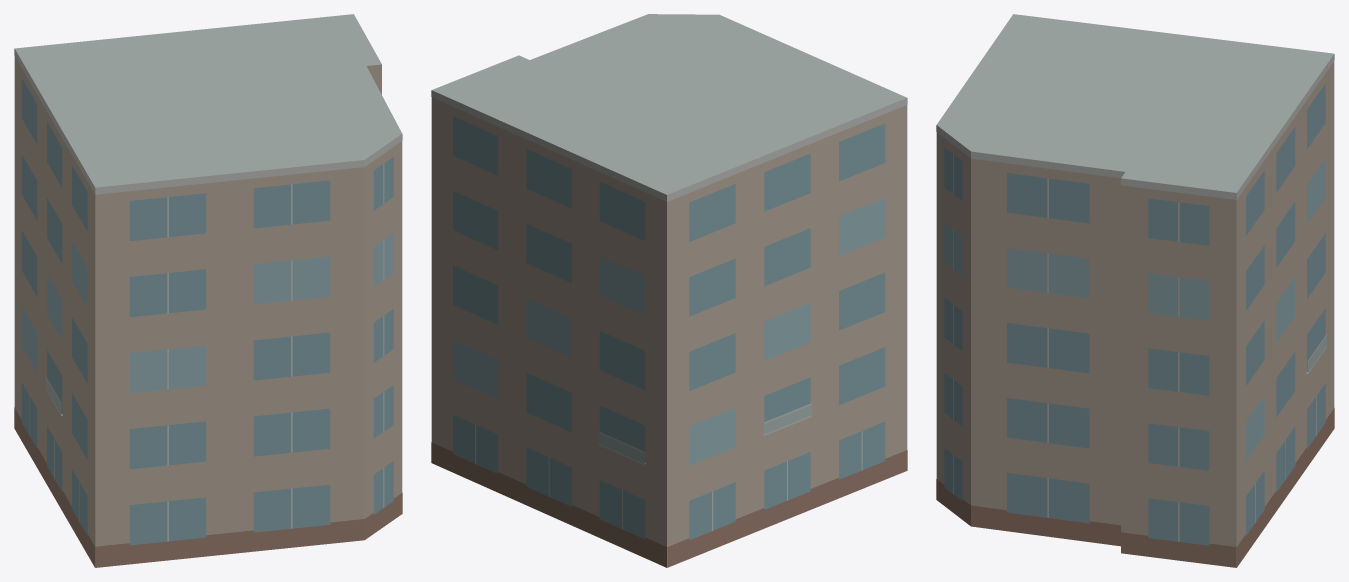
File: survey-upis-33026586.glb
3 renders of one model, left to right at view 1: azimuth 30°, elevation 25°; view 2: azimuth 150°, elevation 25°; view 3: azimuth 270°, elevation 25°, orthographic.
Parts seen in each view (by area): view 1: survey-upis-33026586.tmp; view 2: survey-upis-33026586.tmp; view 3: survey-upis-33026586.tmp.
Boxes of the visible parts, bbox=[...] form: survey-upis-33026586.tmp: bbox=[14, 14, 402, 567]; survey-upis-33026586.tmp: bbox=[431, 14, 907, 567]; survey-upis-33026586.tmp: bbox=[936, 14, 1334, 567].
Size of the model in its own units: 13.42 by 13.1 by 12.61.
